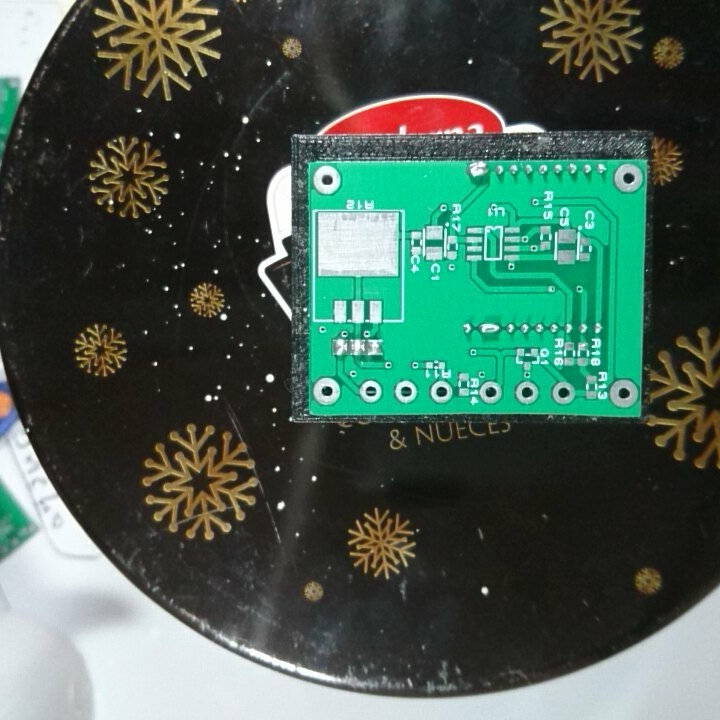F: (311, 162, 344, 197), (611, 162, 644, 196), (608, 376, 640, 410), (312, 375, 342, 409), (477, 378, 507, 406), (514, 378, 540, 406), (428, 378, 454, 405), (358, 378, 383, 406), (393, 379, 418, 406), (550, 380, 575, 406)
P: (465, 158, 491, 183), (477, 318, 502, 339)
